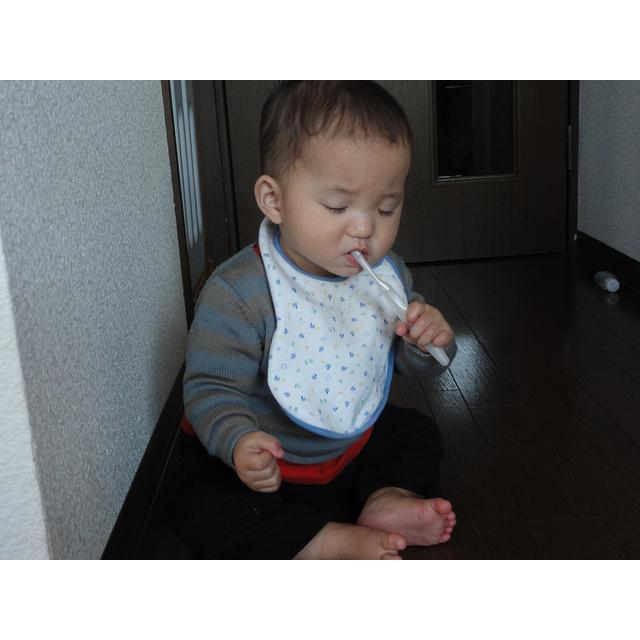toothbrush: (350, 251, 450, 367), (592, 269, 620, 293)
